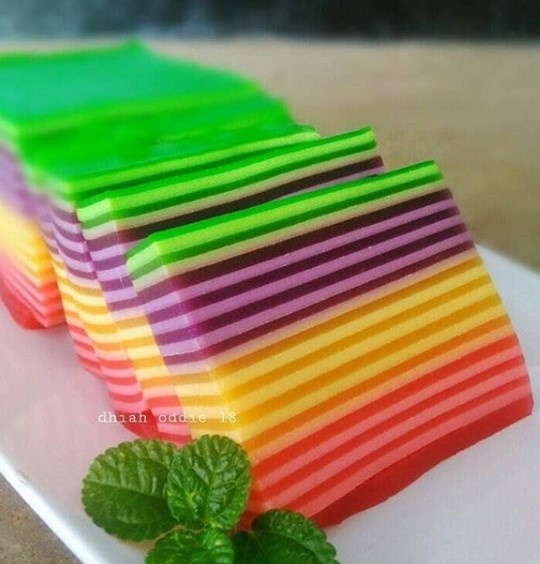kue_lapis_pelangi: (125, 160, 533, 536)
